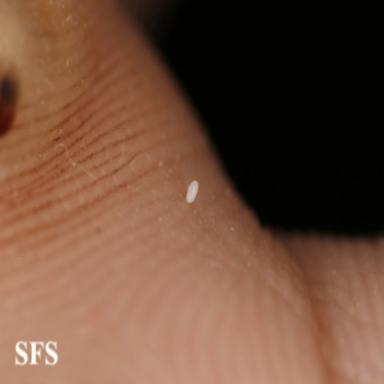Tungiasis: (186, 180, 199, 203)
